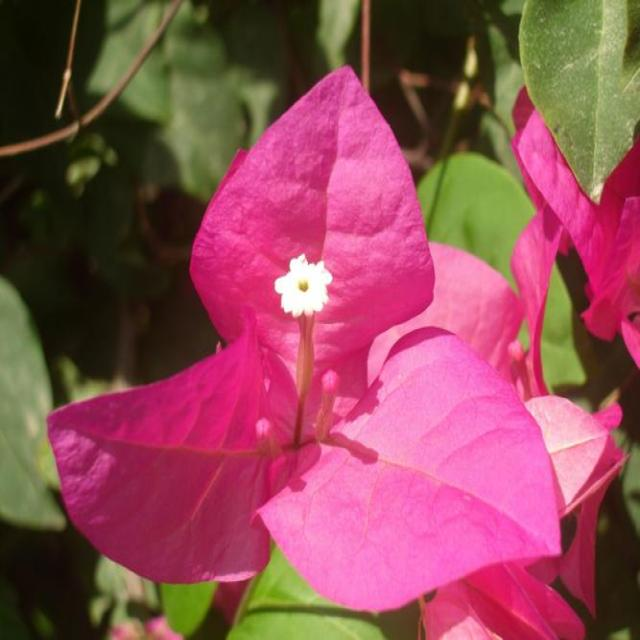bougainvillea: (22, 81, 606, 640)
